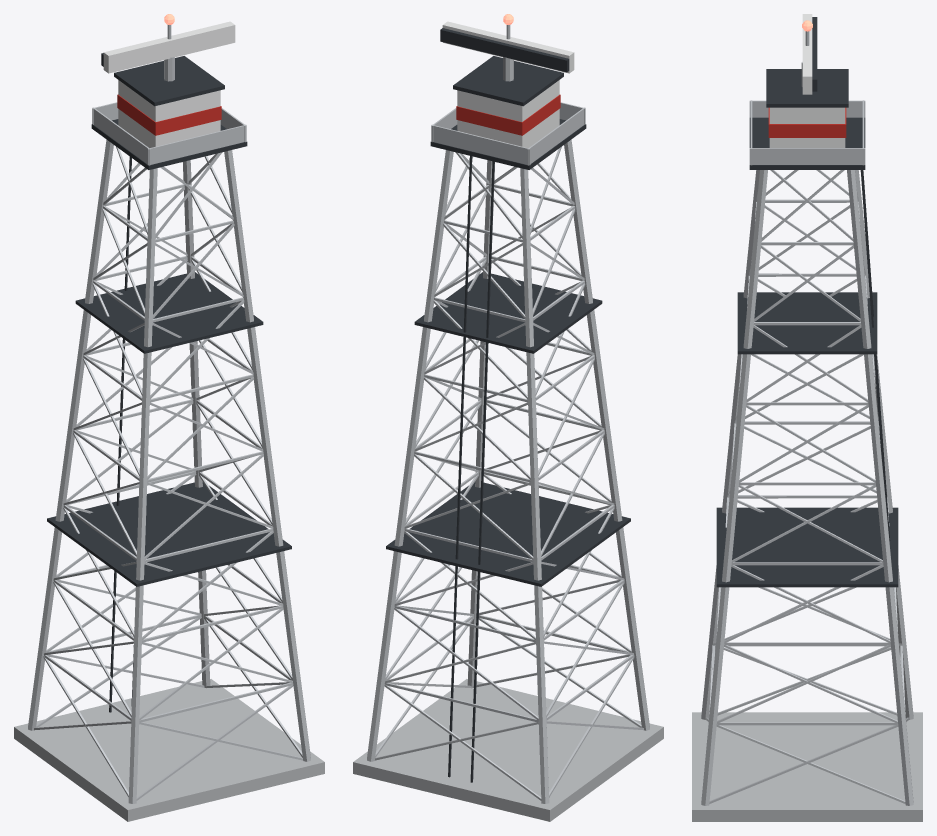
Rendered from torre-radar.glb.
3 renders of one model, left to right at view 1: azimuth 30°, elevation 25°; view 2: azimuth 150°, elevation 25°; view 3: azimuth 270°, elevation 25°, orthographic.
Visible parts, largest first — view 1: torre-radar; view 2: torre-radar; view 3: torre-radar.
Part boxes in pixels (<box>): torre-radar: <box>14,14,324,821</box>; torre-radar: <box>353,14,663,821</box>; torre-radar: <box>692,14,922,821</box>.
Bounding box in the file's own units: 14 × 50.35 × 14.
